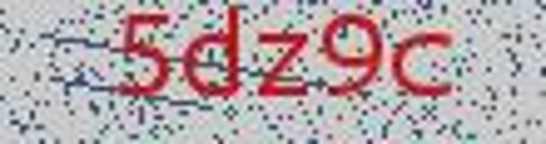5: (108, 7, 178, 106)
9: (316, 9, 386, 109)
c: (390, 20, 462, 107)
d: (179, 2, 244, 111)
z: (252, 20, 312, 106)
